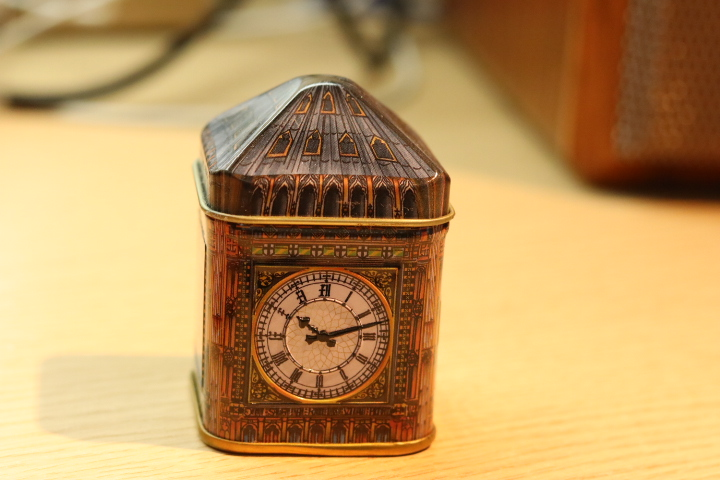Big Ben: (159, 61, 491, 469)
